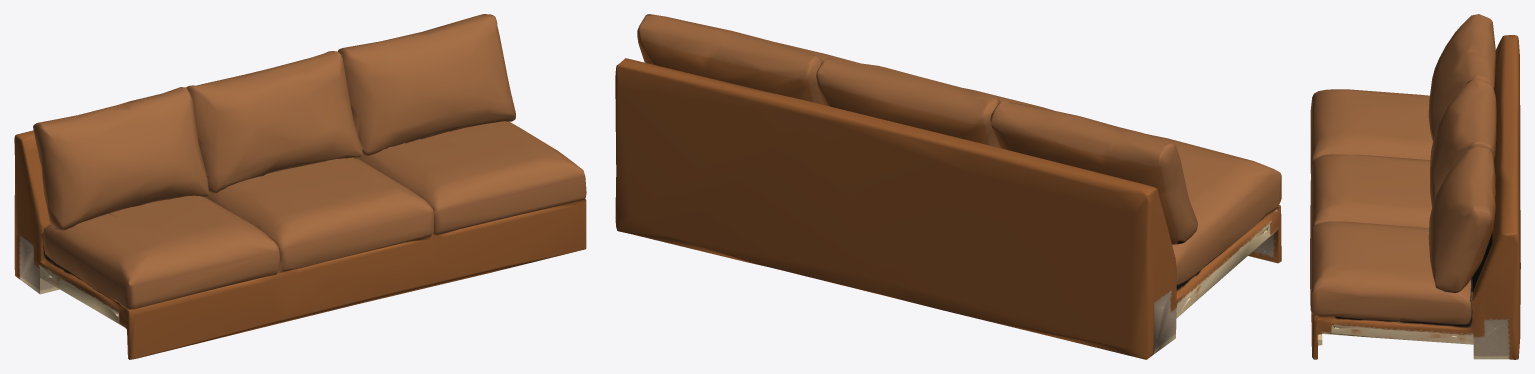
Rendered from FINNALA_40456432.glb.
3 renders of one model, left to right at view 1: azimuth 30°, elevation 25°; view 2: azimuth 150°, elevation 25°; view 3: azimuth 270°, elevation 25°, orthographic. The views are drawn at different scales.
Parts seen in each view (by area): view 1: ProcessedMeshNode; view 2: ProcessedMeshNode; view 3: ProcessedMeshNode.
Part boxes in pixels (box(x1,y1,x2,y2)): ProcessedMeshNode: box(14, 14, 586, 359); ProcessedMeshNode: box(615, 14, 1281, 359); ProcessedMeshNode: box(1310, 14, 1520, 359).
Size of the model in its own units: 2.12 by 0.7479 by 0.9447.
2 materials, 2 textured.
